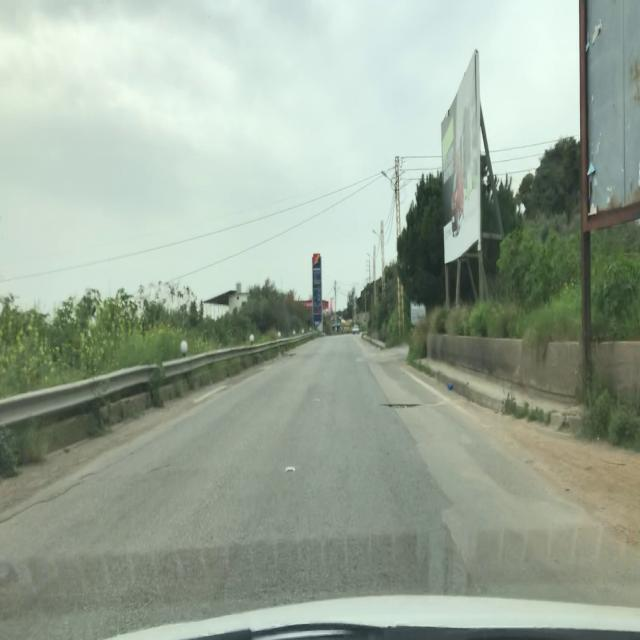Pothole: (381, 403, 421, 408), (284, 353, 296, 358)
